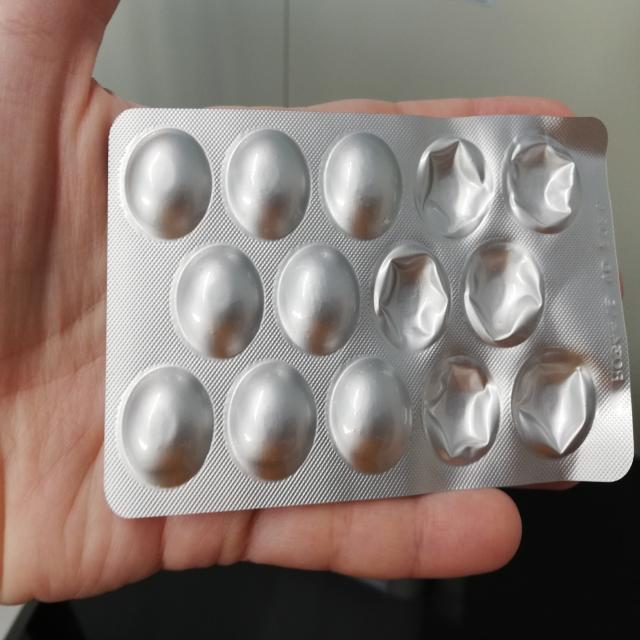Empty: (508, 350, 600, 461), (459, 242, 549, 349), (419, 354, 504, 466), (371, 242, 455, 354), (411, 132, 492, 242), (500, 128, 583, 234)
Pill: (119, 362, 216, 491), (224, 361, 315, 487), (120, 123, 214, 243), (172, 244, 266, 361), (272, 244, 363, 360), (328, 360, 416, 478), (224, 123, 310, 243), (324, 127, 404, 242)
